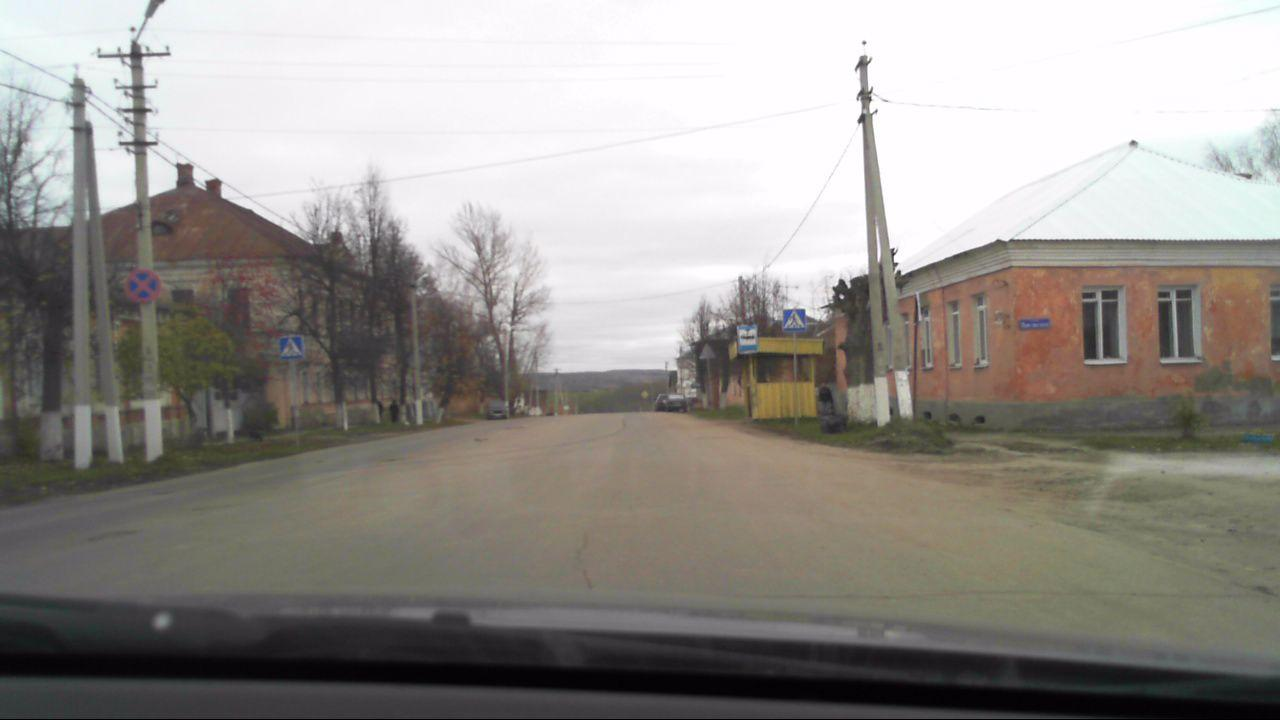3_27: (122, 268, 163, 302)
5_16: (736, 322, 758, 354)
5_19_1: (781, 306, 805, 332)
5_19_2: (281, 338, 305, 357)
